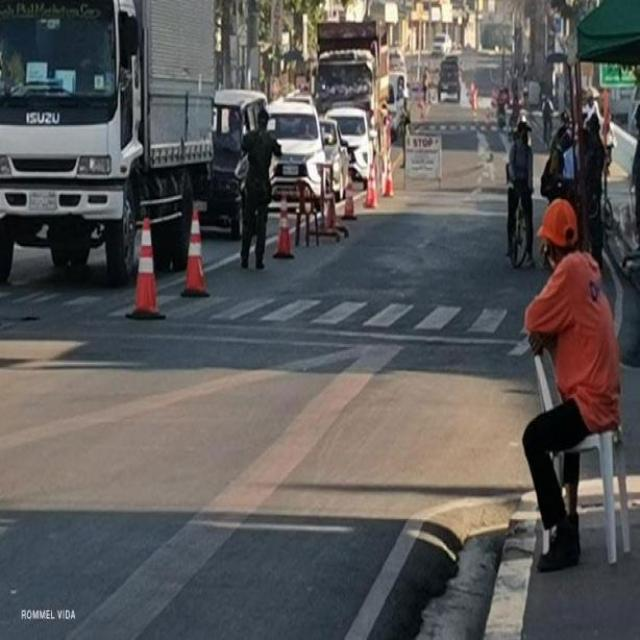pedestrian lane: (109, 293, 508, 334)
